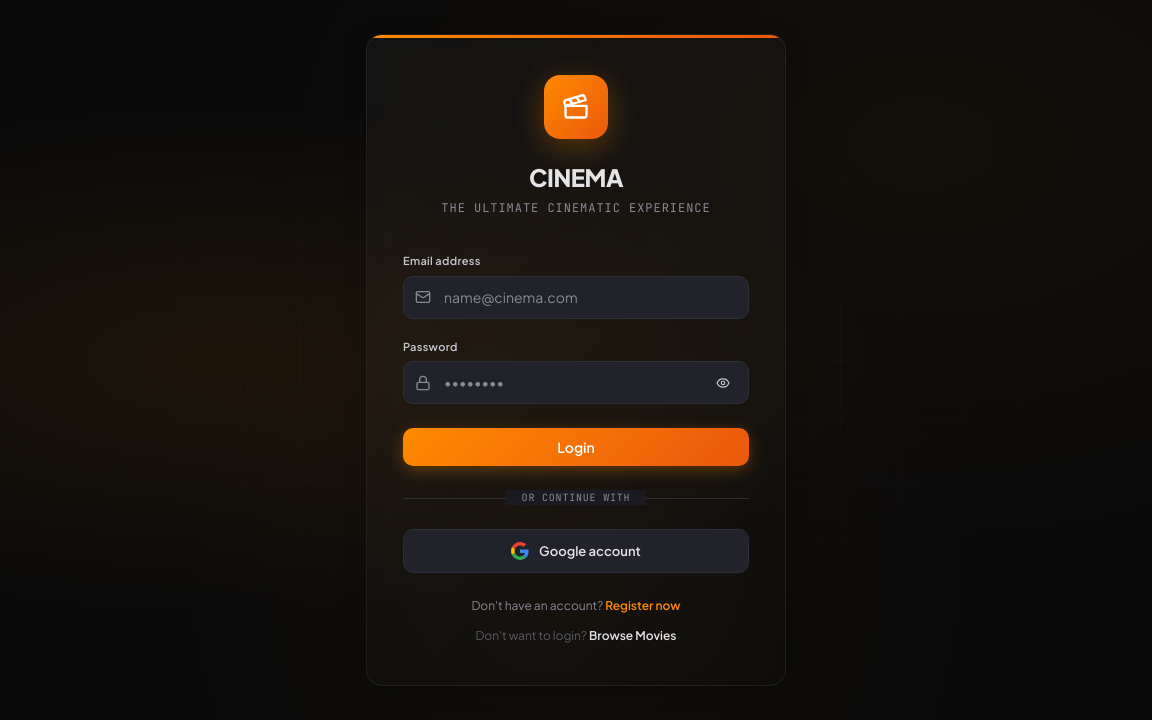
Test case: LoginForm › shows error message on invalid credentials
Type "wrong@test.com" into the field with placeholder "name@cinema.com". click: (576, 297)
box: [403,276,749,318]
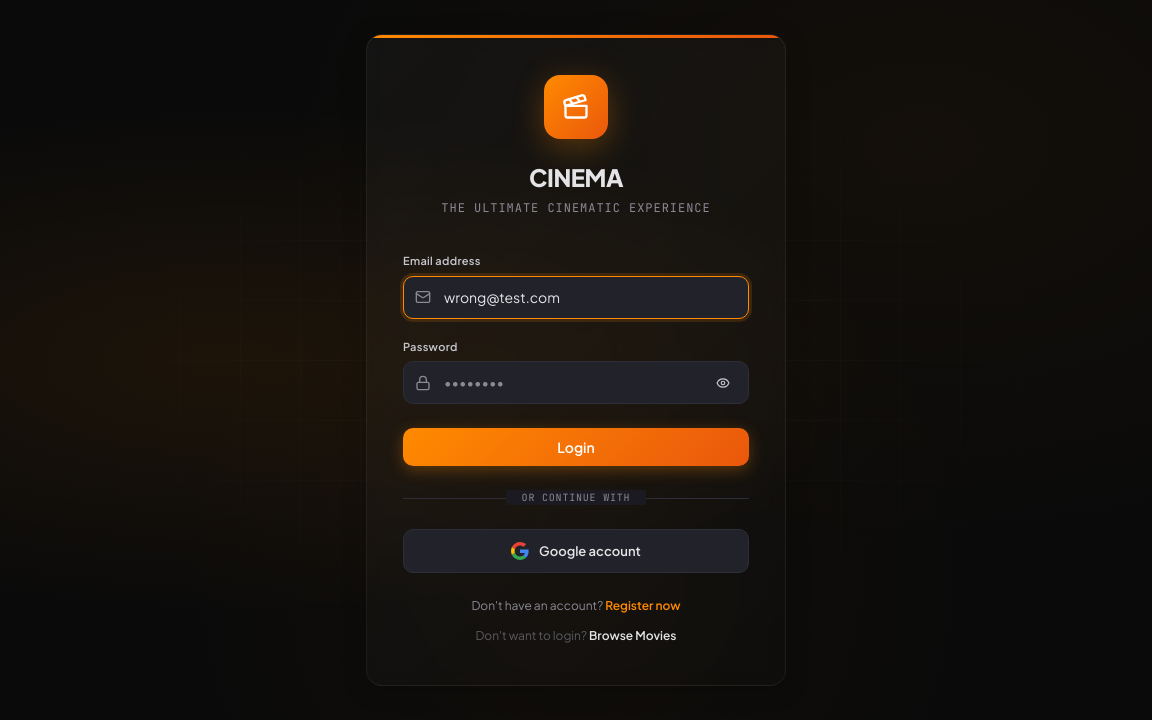
Type "wrongpassword" into the password field with placeholder "••••••••". click: (576, 382)
box: [403,361,749,404]
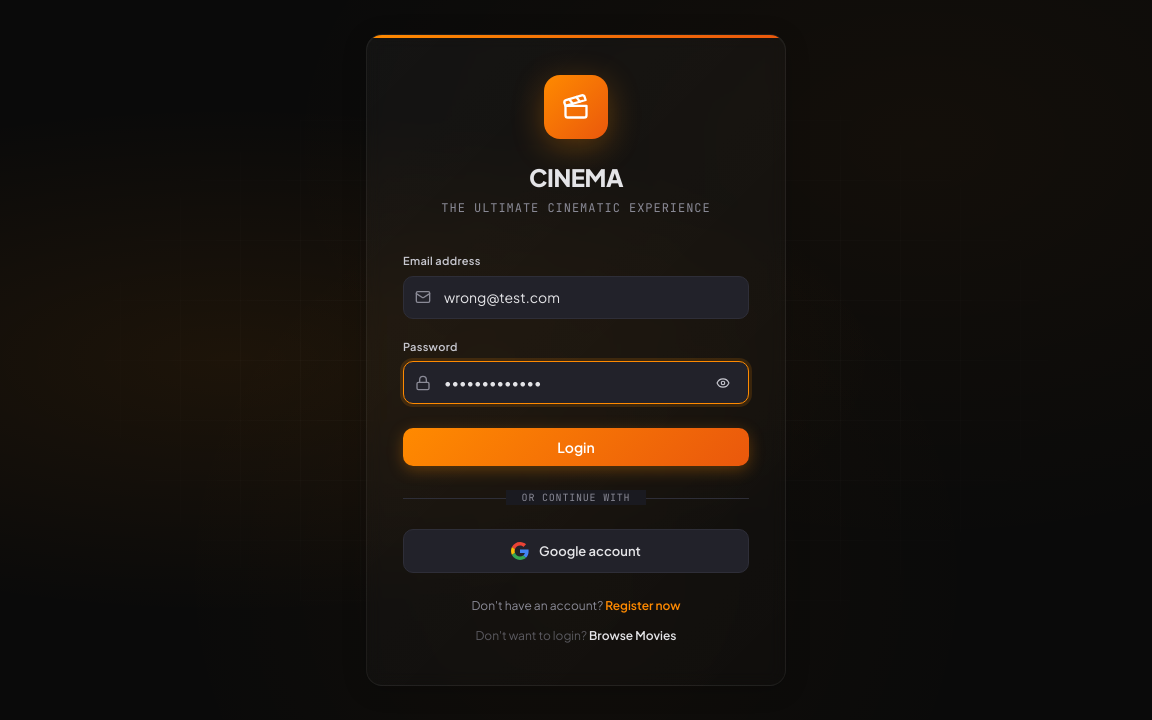
Click the button "Login". click: click(576, 447)
box: [403,428,749,466]
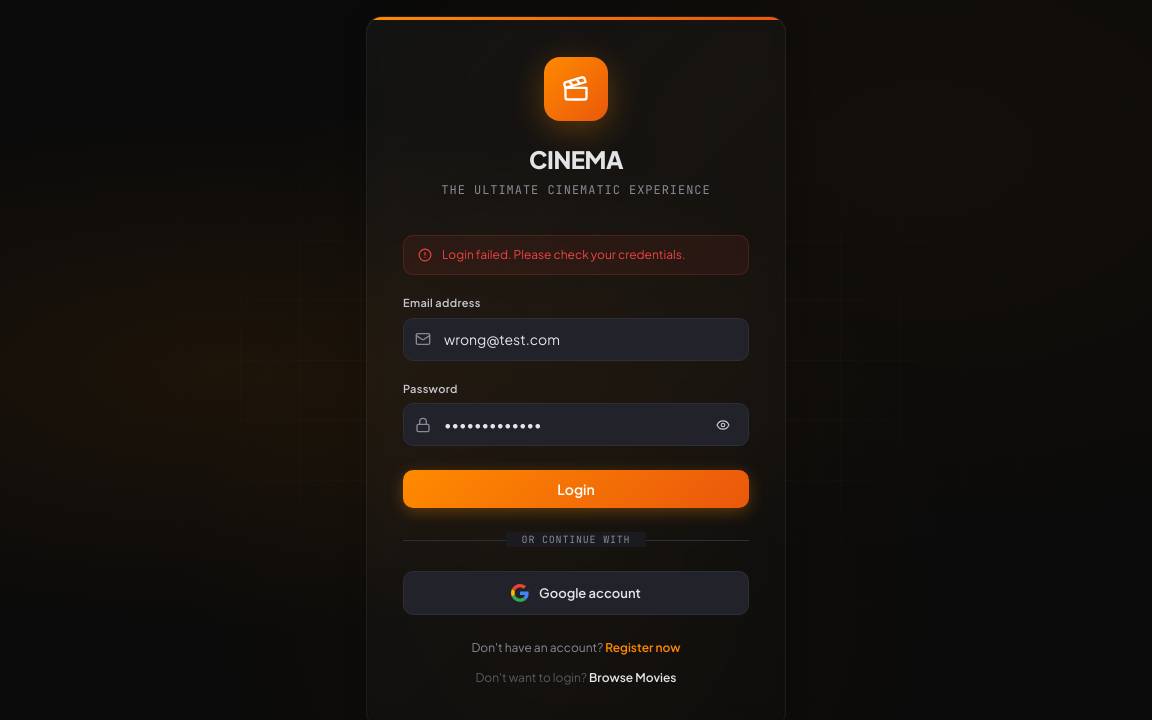
Expected: the text "Login failed. Please check your credentials." is shown, [442,246,685,264]
